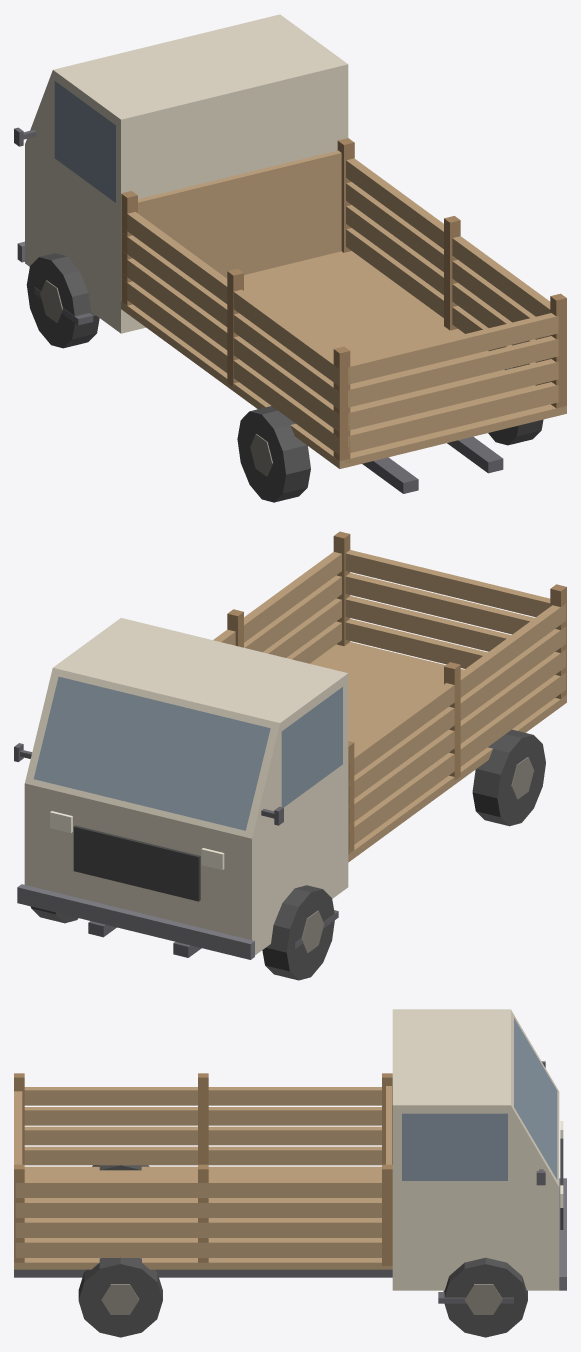
Rendered from cargo_truck (1).fbx.
3 views of the same model, one above another, from view 1: azimuth 30°, elevation 25°; view 2: azimuth 150°, elevation 25°; view 3: azimuth 270°, elevation 25° (orthographic). The views are drawn at different scales.
Parts seen in each view (by area): view 1: Body, Tire3, Tire2, Tire4; view 2: Body, Tire3, Tire2; view 3: Body, Tire4, Tire1.
Boxes of the visible parts, left/top/right/bottom form: Body: left=14, top=14, right=566, bottom=493; Tire3: left=237, top=406, right=310, bottom=502; Tire2: left=26, top=253, right=99, bottom=348; Tire4: left=488, top=368, right=543, bottom=445; Body: left=14, top=531, right=566, bottom=959; Tire3: left=472, top=729, right=545, bottom=826; Tire2: left=262, top=885, right=338, bottom=980; Body: left=14, top=1009, right=566, bottom=1290; Tire4: left=78, top=1257, right=162, bottom=1337; Tire1: left=438, top=1257, right=527, bottom=1337.
Bounding box in the file's own units: 175 × 164 × 365.
